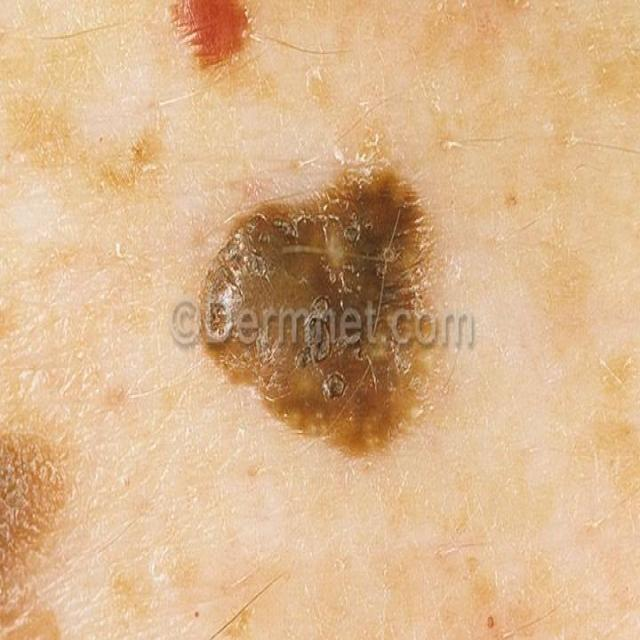Eczema: (159, 136, 467, 480)
